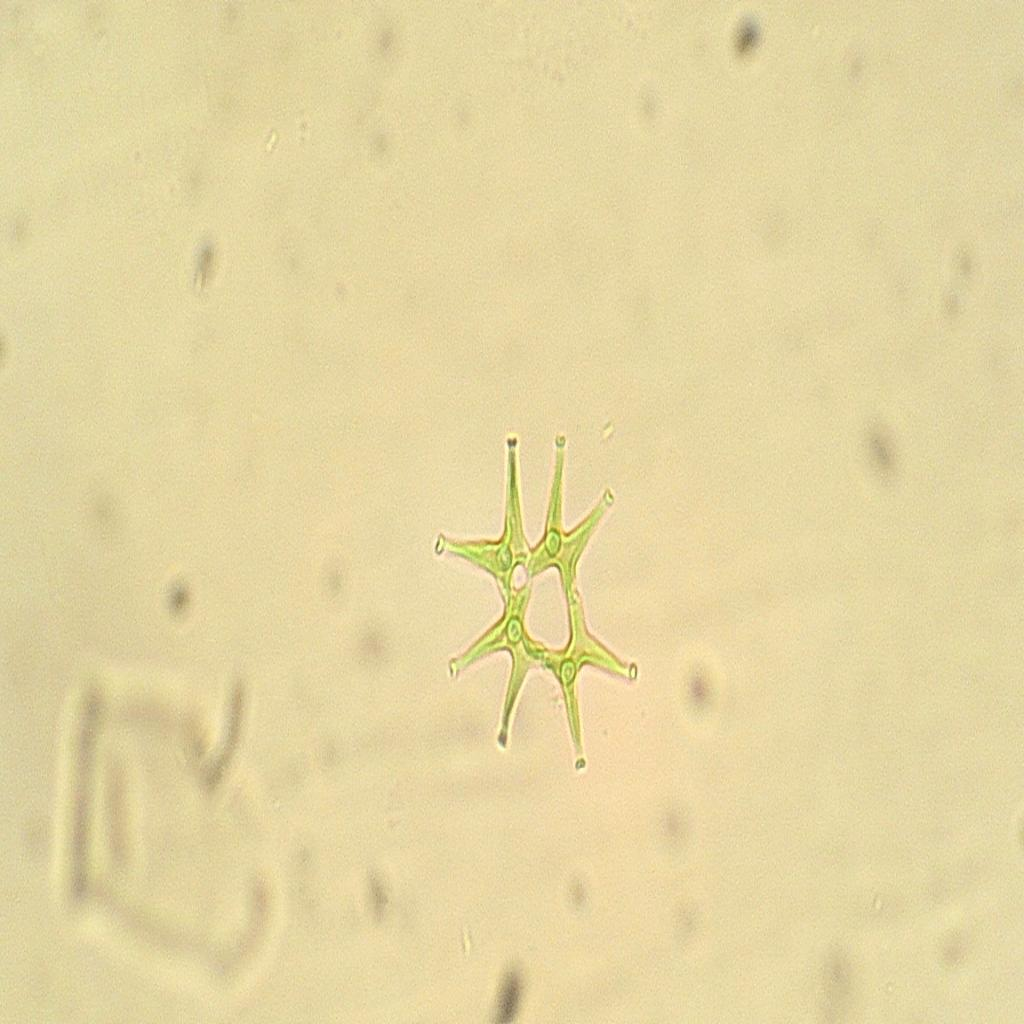Pediastrum_75FO: (424, 424, 644, 804)
